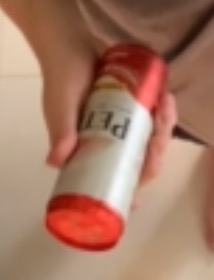petra: (38, 57, 181, 257)
